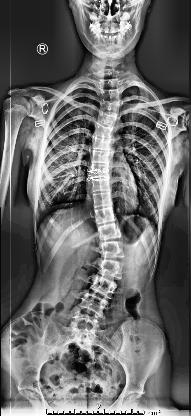Vertebrae: (70, 308, 100, 326), (92, 276, 116, 298), (99, 239, 124, 259), (99, 223, 122, 243), (92, 207, 118, 224), (103, 260, 125, 280), (80, 293, 104, 311), (94, 192, 114, 210), (100, 89, 122, 103), (91, 178, 111, 192), (93, 150, 112, 164), (95, 124, 114, 138), (91, 165, 109, 179), (92, 138, 113, 150), (100, 112, 117, 126), (102, 101, 120, 113)
